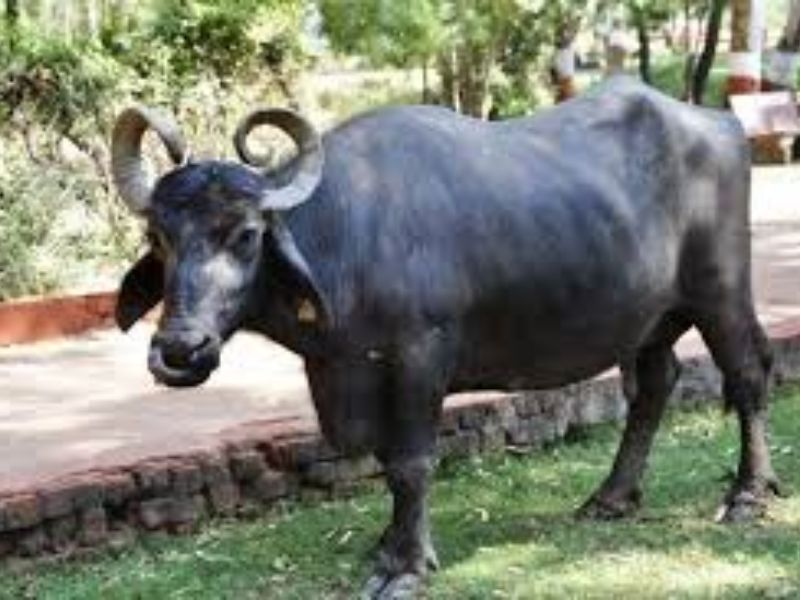buffalo: (82, 32, 800, 595)
